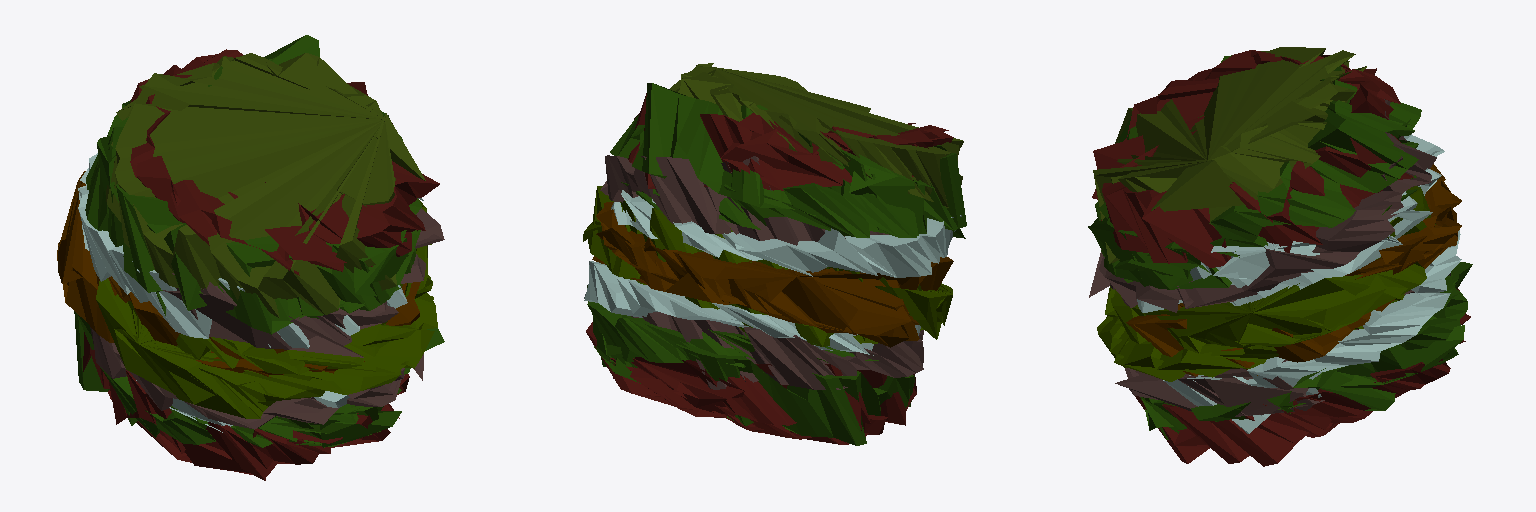
The model's file is world.obj.
3 renders of one model, left to right at view 1: azimuth 30°, elevation 25°; view 2: azimuth 150°, elevation 25°; view 3: azimuth 270°, elevation 25°, orthographic.
Visible parts, largest first — view 1: Cilindro.002; view 2: Cilindro.002; view 3: Cilindro.002.
Part boxes in pixels (left/top/right/bottom): Cilindro.002: left=57, top=35, right=444, bottom=480; Cilindro.002: left=583, top=63, right=966, bottom=445; Cilindro.002: left=1088, top=47, right=1472, bottom=466.
Size of the model in its own units: 5.25 by 5.31 by 5.2.